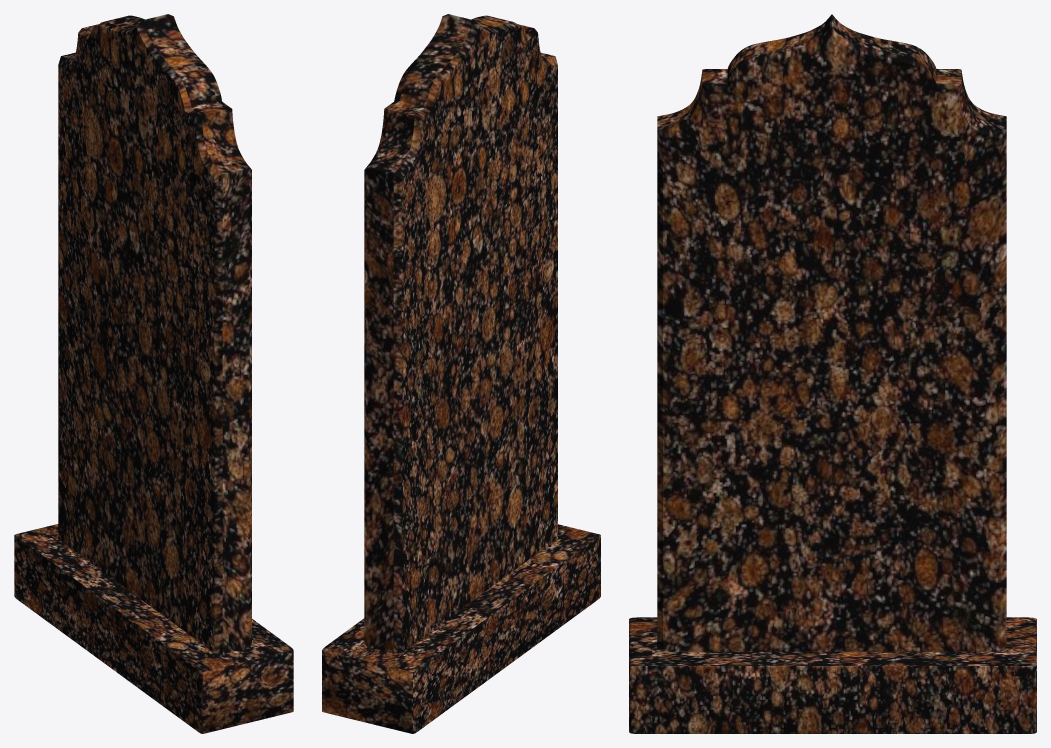
File: Памятник вола Дымовски [granite_u_u] (120).glb
The picture shows the model from 3 angles, left to right: view 1: azimuth 30°, elevation 25°; view 2: azimuth 150°, elevation 25°; view 3: azimuth 270°, elevation 25°; orthographic projection. The views are drawn at different scales.
Parts seen in each view (by area): view 1: Cube.061; view 2: Cube.061; view 3: Cube.061.
Boxes of the visible parts, x1,y1,x2,y2 form: Cube.061: (14, 14, 293, 733); Cube.061: (322, 14, 600, 733); Cube.061: (629, 14, 1036, 733).
Size of the model in its own units: 0.2 by 1.31 by 0.7.
Materials: 1 (1 with a texture image).
